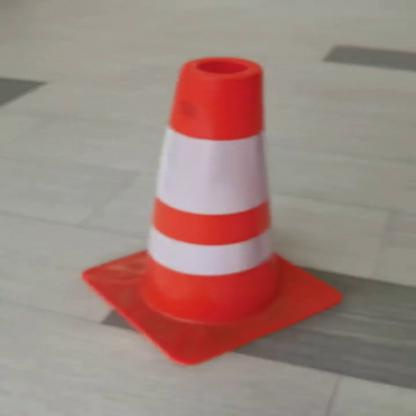cone: (84, 45, 350, 374)
